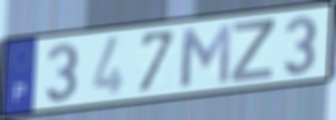3: (43, 39, 81, 106), (281, 12, 319, 79)
4: (90, 32, 129, 100)
7: (138, 26, 179, 95)
M: (179, 21, 234, 89)
Z: (229, 17, 277, 85)
